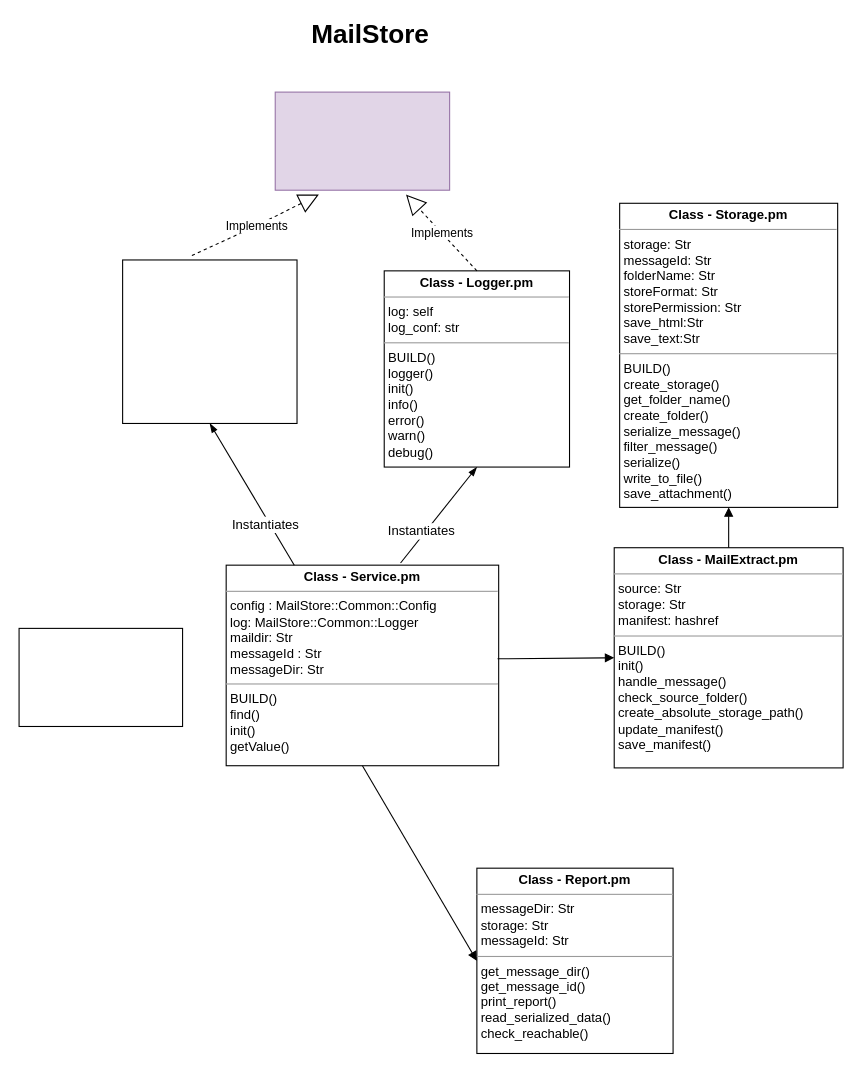
The diagram is 862 pixels wide and 1073 high, and some of its shapes have lost their labels. The shapes that lost their labels are listed below. From the top down, each one's centre as x and y in pixels, then its label:
At (362,140): "<<Interface>> Instance.pm + instance() + existing_singleton()".
At (209,341): "Class - Config config : self config_file : str BUILD() find() init() getValue()".
At (100,676): "Class - MailStore.pm version: Num".
